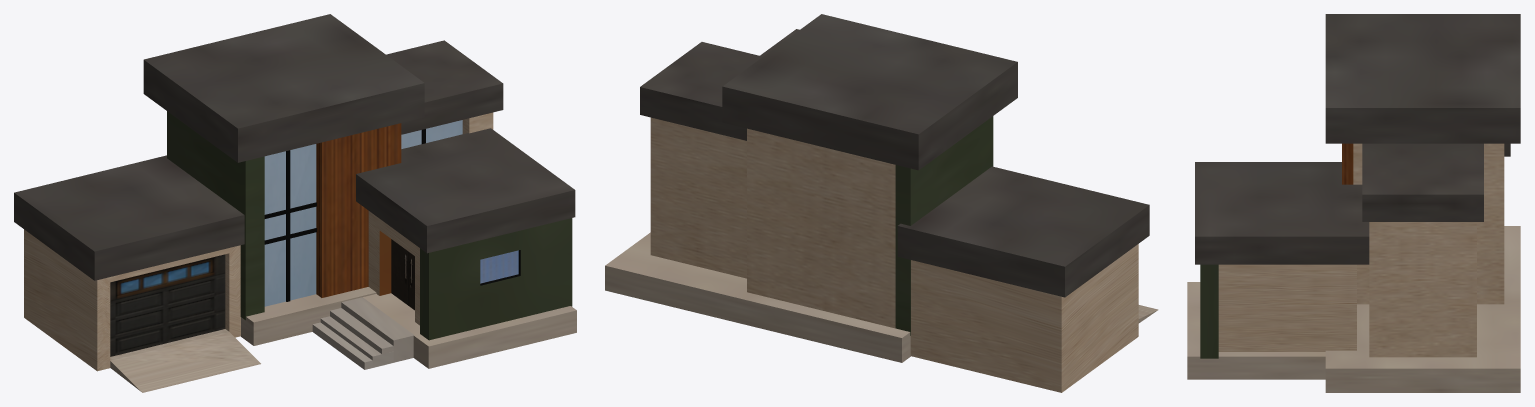
File: villa 2.fbx
The picture shows the model from 3 angles, left to right: view 1: azimuth 30°, elevation 25°; view 2: azimuth 150°, elevation 25°; view 3: azimuth 270°, elevation 25°; orthographic projection. The views are drawn at different scales.
Parts seen in each view (by area): view 1: Cube.005; view 2: Cube.005; view 3: Cube.005.
Part boxes in pixels (x1=…): Cube.005: x1=14, y1=14, x2=576, y2=392; Cube.005: x1=605, y1=14, x2=1158, y2=392; Cube.005: x1=1187, y1=14, x2=1520, y2=392.
Size of the model in its own units: 785 by 385 by 507.
Materials: 1 (1 with a texture image).
